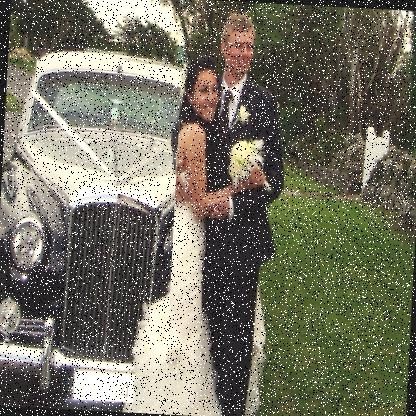Car: (0, 35, 184, 405)
